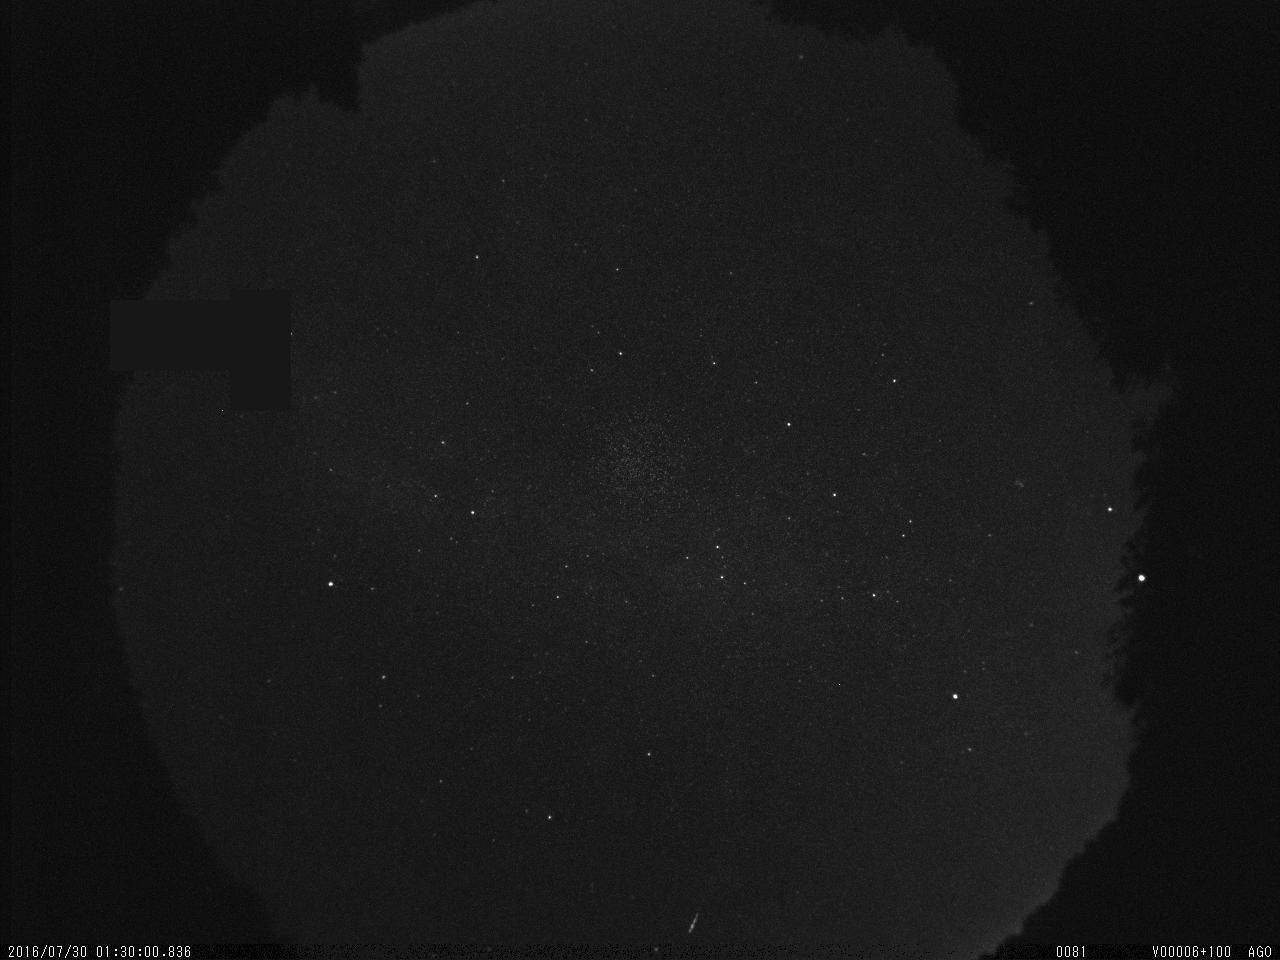Meteor: (683, 906, 703, 939)
